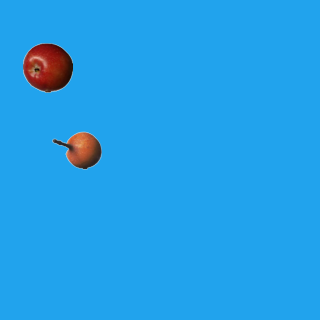Apple Braeburn: (22, 42, 72, 92)
Granadilla: (51, 125, 101, 175)
